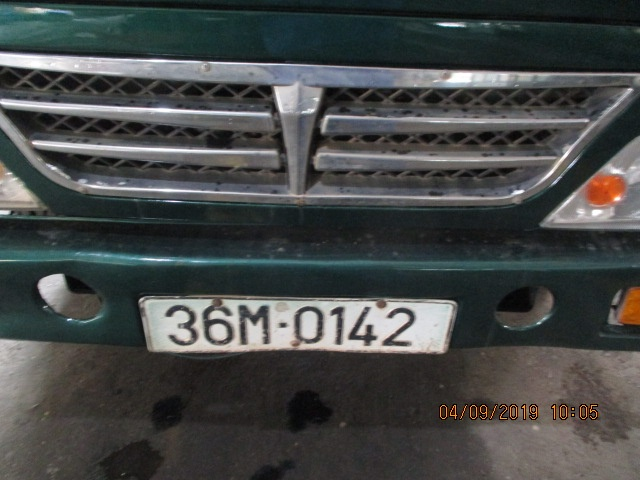number_plate: (161, 300, 425, 350)
